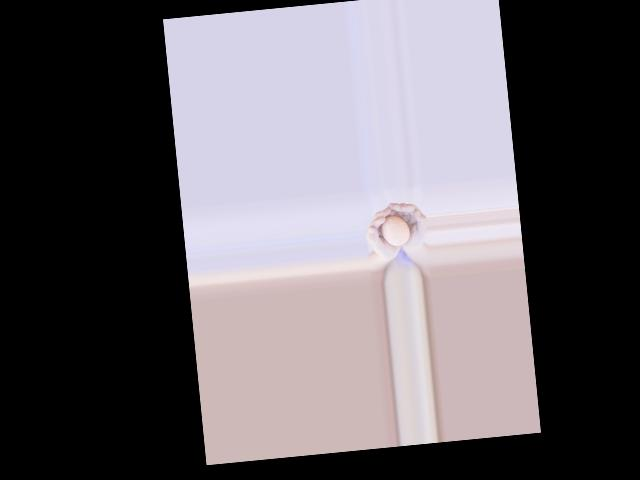egg: (380, 214, 411, 247)
